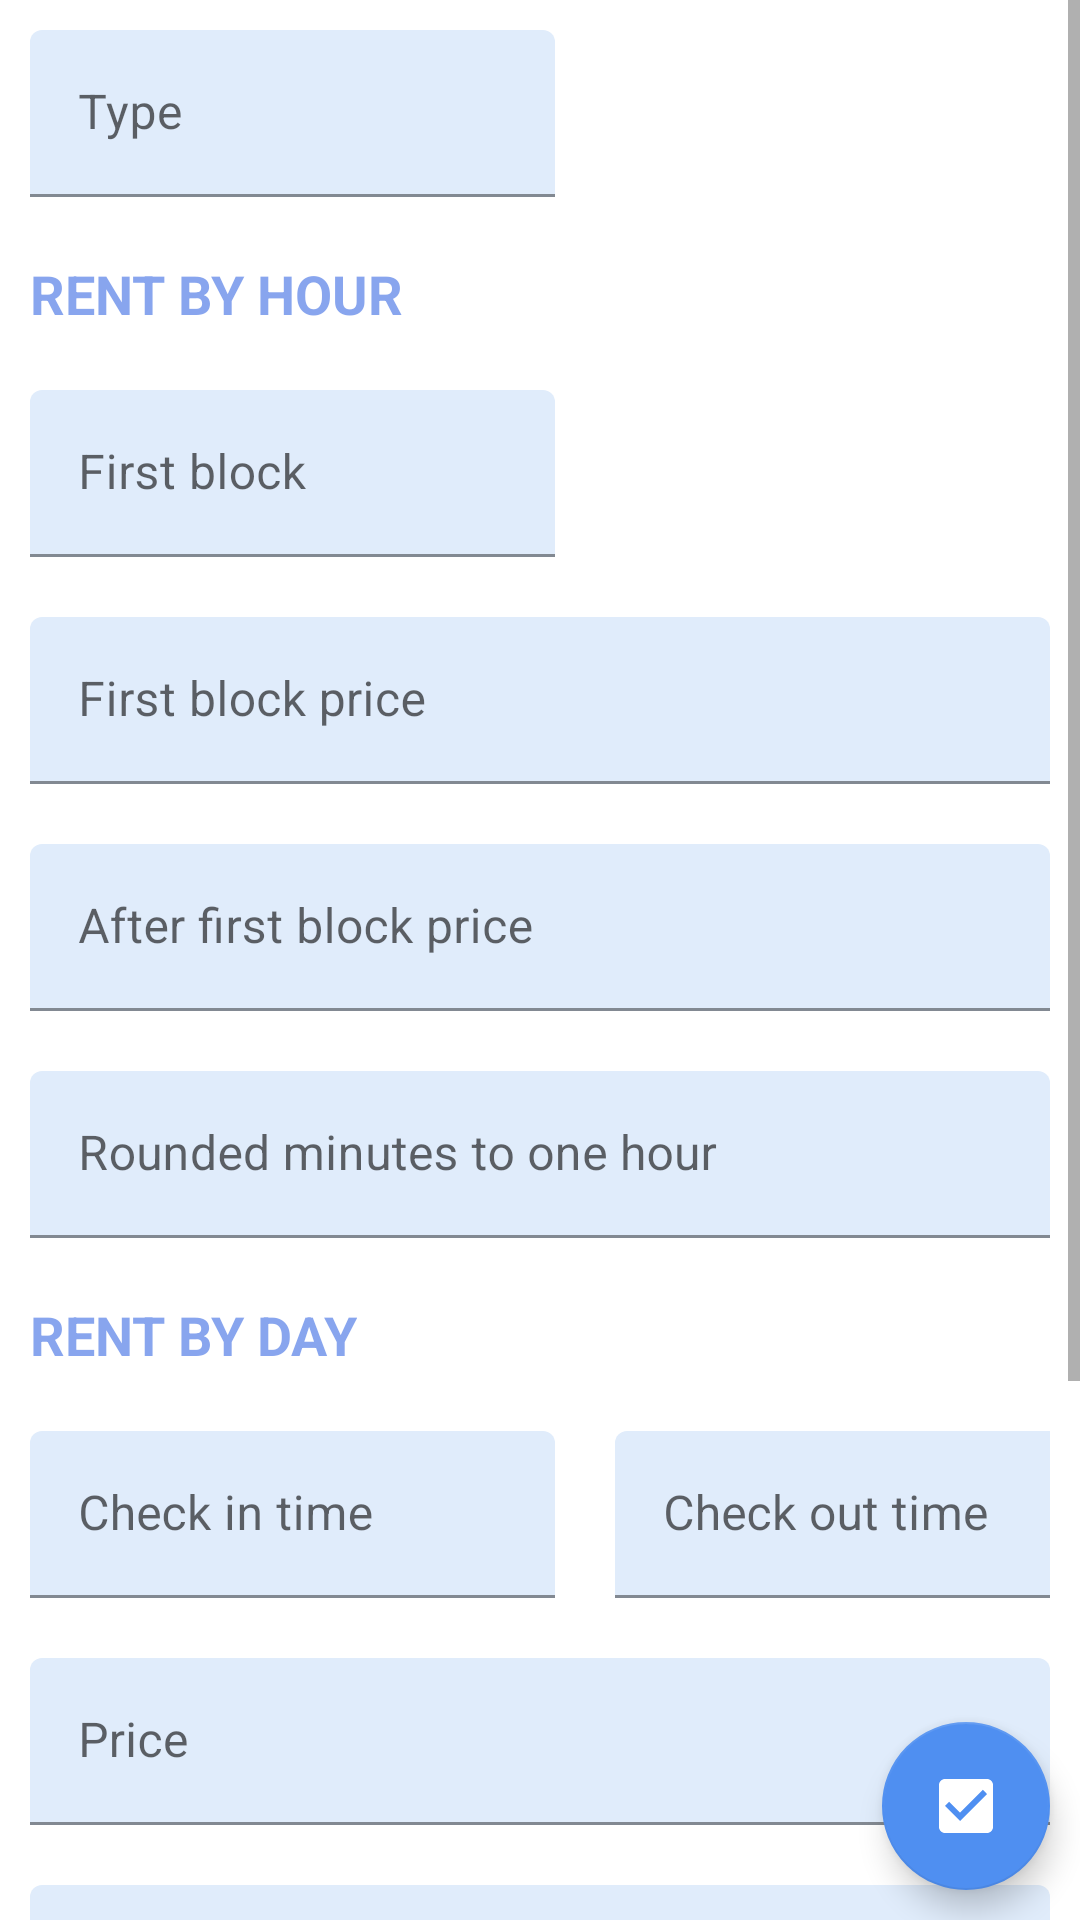

Named icons in this screenshot (1080x1920) and their bounding boxes, [x1,y1,x2,y2]:
confirm: [882,1722,1050,1890]
